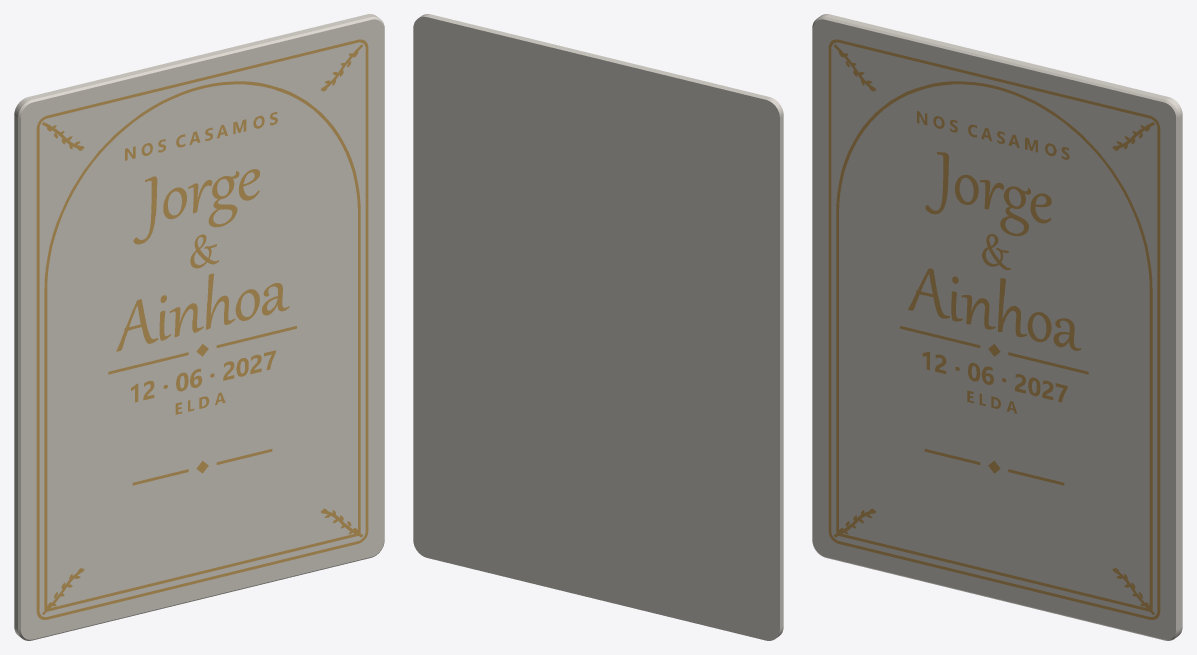
Rendered from tarjeta.glb.
3 renders of one model, left to right at view 1: azimuth 30°, elevation 25°; view 2: azimuth 150°, elevation 25°; view 3: azimuth 330°, elevation 25°, orthographic.
Visible parts, largest first — view 1: fondo, texto; view 2: fondo; view 3: fondo, texto.
Part boxes in pixels (x1,y1,x2,y2): fondo: (14,14,384,640); texto: (36,39,368,619); fondo: (413,14,783,640); fondo: (812,14,1182,640); texto: (828,39,1160,619).
Size of the model in its own units: 0.105 by 0.148 by 0.0025.
